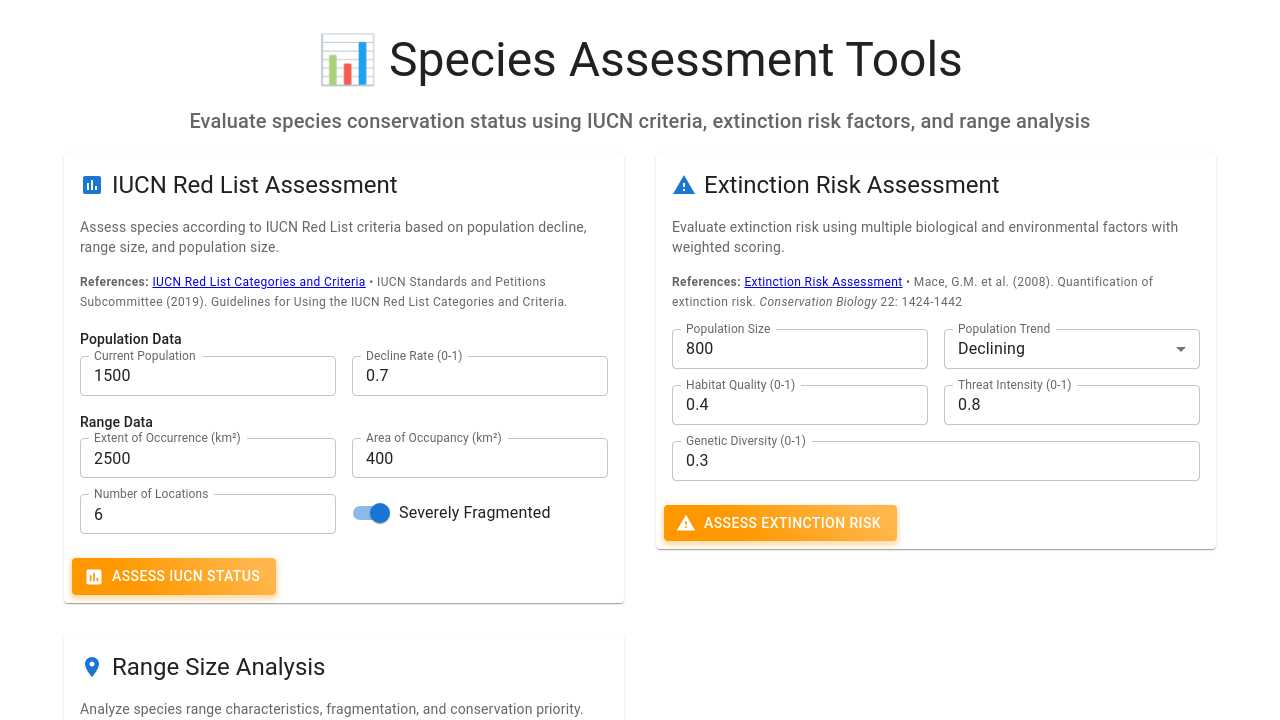
it: SpeciesAssessment Component › handles population trend selection
Note: Find the select by its role (it has no accessible name in the current implementation)
Press the mouse on the dropdown at [992, 349], box x1=958 y1=339 x2=1025 y2=358
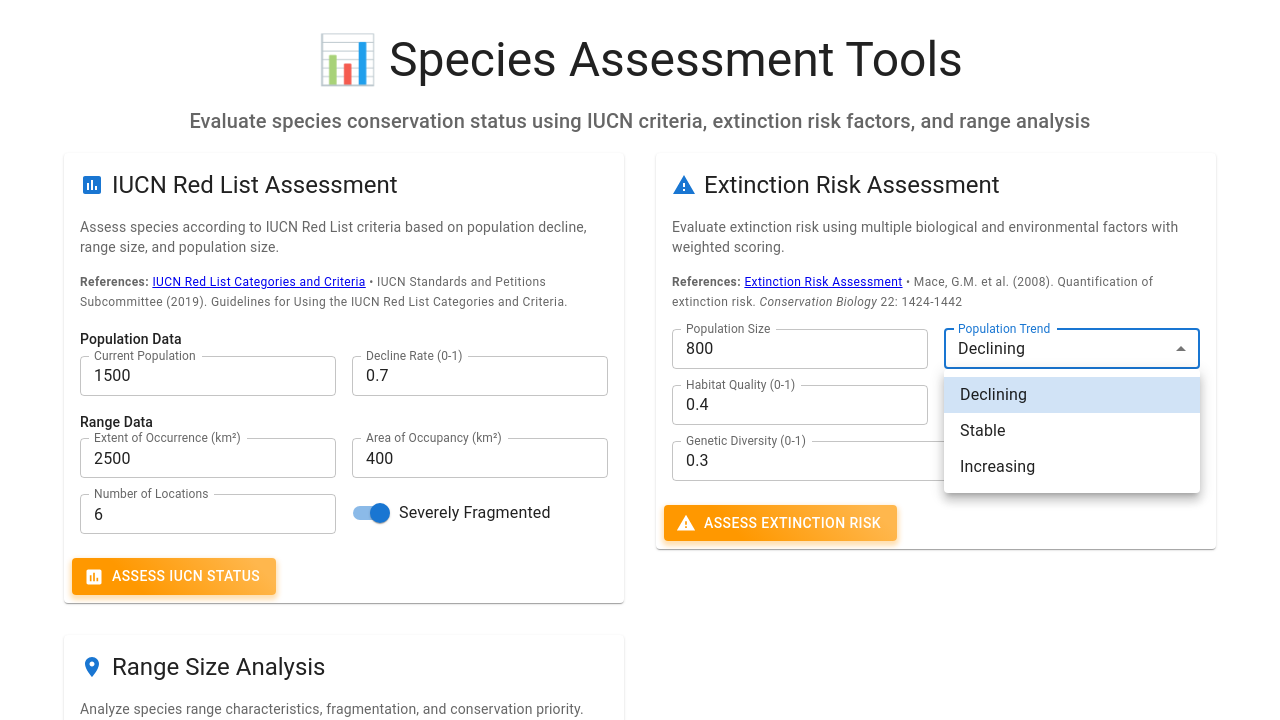
Click the option "Stable" at [983, 430], box x1=960 y1=421 x2=1006 y2=440
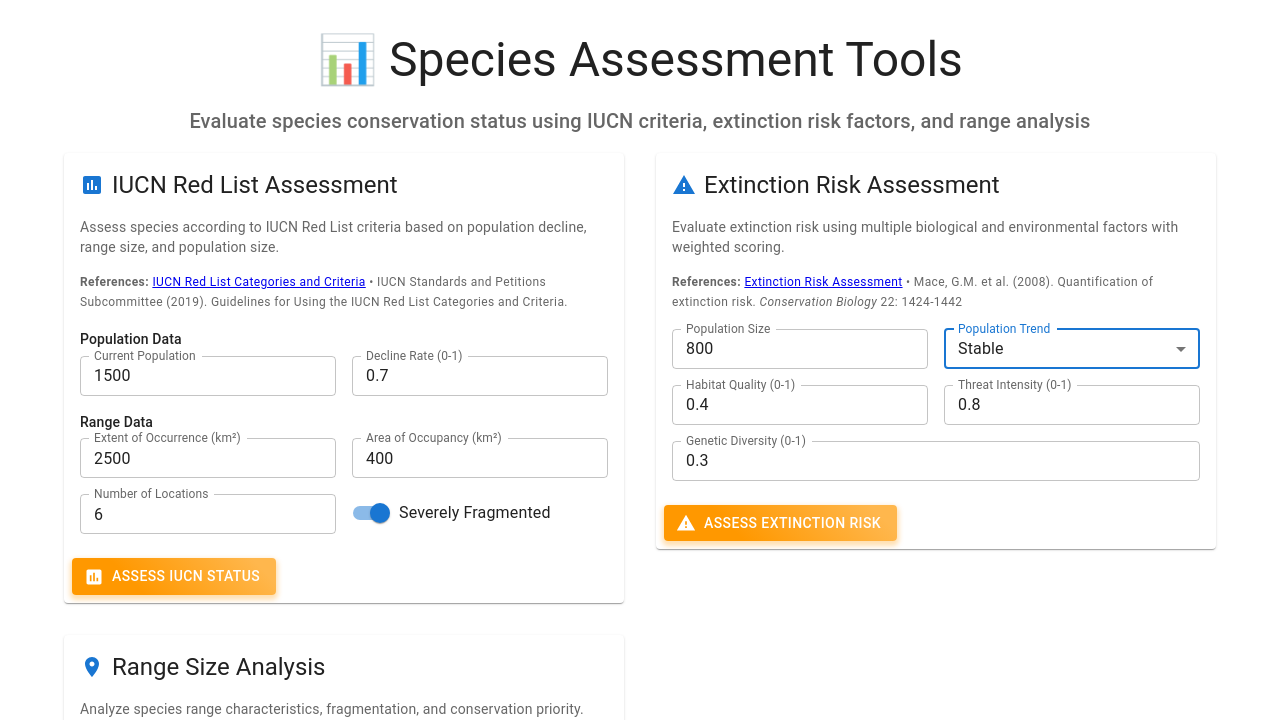
Expected: the dropdown reads "Stable", x1=958 y1=339 x2=1004 y2=358
